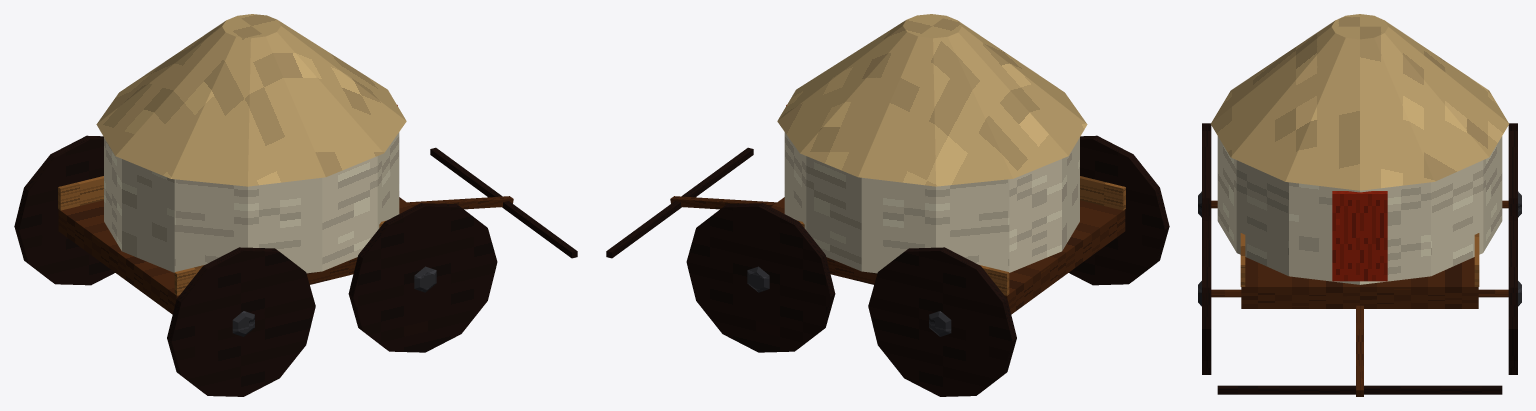
The model's file is kibitka.glb.
3 views of the same model, side by side, from view 1: azimuth 30°, elevation 25°; view 2: azimuth 150°, elevation 25°; view 3: azimuth 270°, elevation 25° (orthographic).
Parts seen in each view (by area): view 1: techo, rueda_der, pared, rueda_izq, caja, yugo, barandas, bujes, lanza; view 2: techo, rueda_izq, pared, rueda_der, caja, yugo, barandas, bujes, lanza; view 3: techo, pared, caja, puerta, yugo, rueda_izq, rueda_der, lanza, ejes, barandas, bujes.
Part boxes in pixels (x1,y1,x2,y2): techo: (96,14,406,186); rueda_der: (167,203,497,396); pared: (104,132,399,273); rueda_izq: (14,135,114,285); caja: (58,197,412,314); yugo: (430,147,577,258); barandas: (58,176,386,295); bujes: (232,266,436,336); lanza: (407,196,513,209); techo: (777,14,1087,186); rueda_izq: (686,203,1016,396); pared: (784,132,1079,273); rueda_der: (1069,135,1169,285); caja: (771,197,1125,314); yugo: (606,147,753,258); barandas: (797,176,1125,295); bujes: (747,266,951,336); lanza: (670,196,776,209); techo: (1211,14,1508,190); pared: (1217,136,1502,284); caja: (1241,257,1478,308); puerta: (1332,191,1387,281); yugo: (1217,385,1502,394); rueda_izq: (1508,123,1517,374); rueda_der: (1202,123,1211,374); lanza: (1356,305,1363,396); ejes: (1211,200,1508,297); barandas: (1240,233,1479,286); bujes: (1198,191,1521,306).
Size of the model in its own units: 6 by 4 by 4.
Materials: 1 (1 with a texture image).
